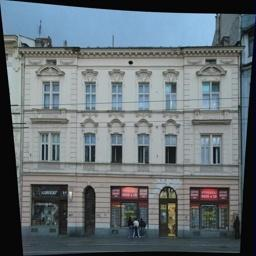building: (8, 24, 253, 245)
